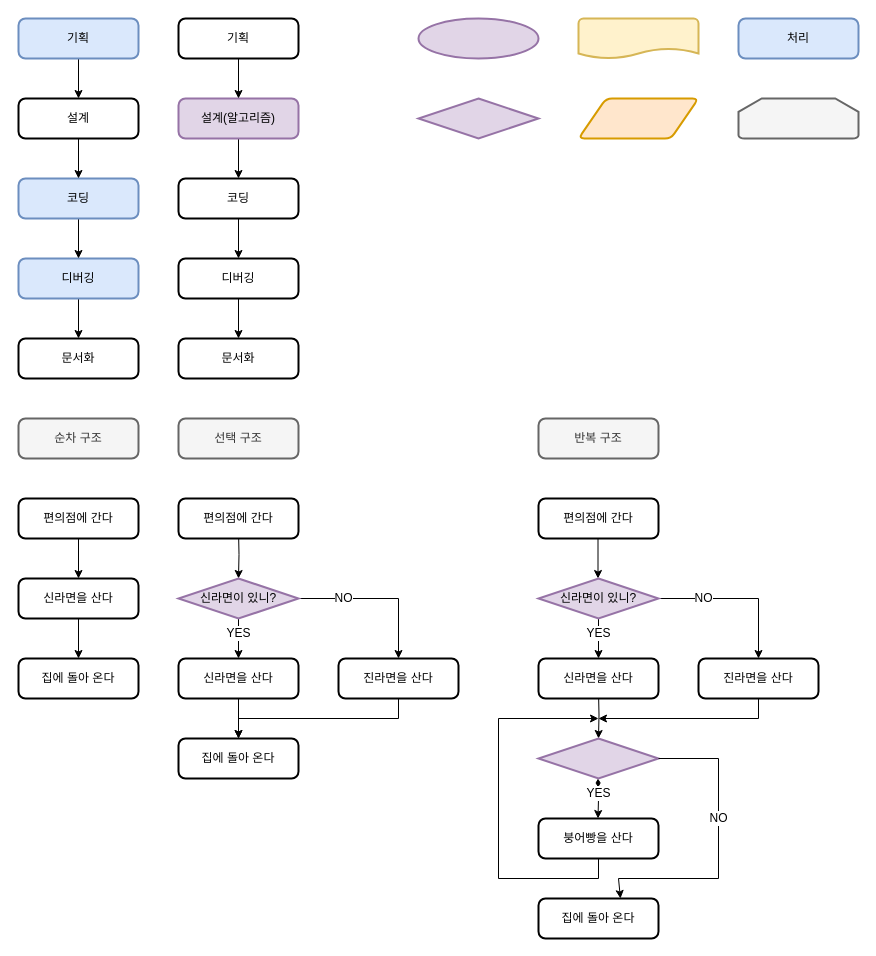
This 876x956 diagram has some shape labels left out. The centre of each missing label's shape, as x and y in pixels:
반복: (x=798, y=118)
시작 끝: (x=478, y=38)
입력: (x=638, y=118)
잔돈이 500원보다 많다: (x=598, y=758)
조건: (x=478, y=118)
출력: (x=638, y=38)
